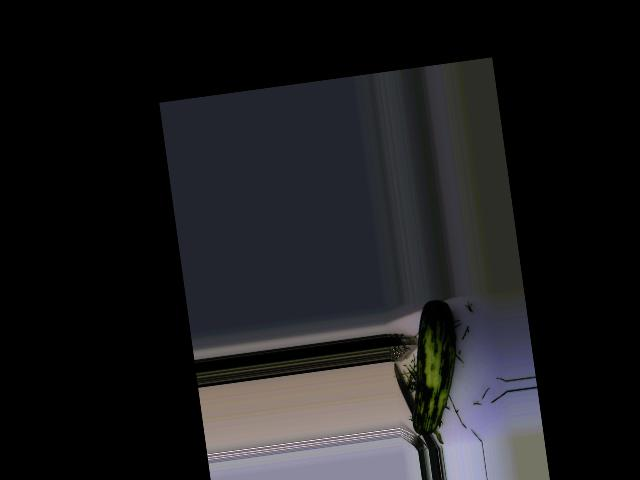cucumber: (396, 298, 468, 437)
